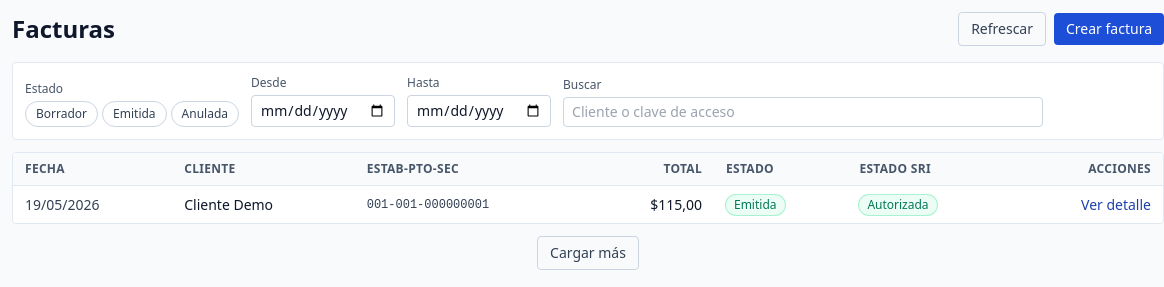
/invoices — cursor pagination › 'Cargar más' appends the second page
Expected: the row with test id "invoice-row-01HX8K0PYFA9B7Y1M2N3P4Q5AA" is shown, [13,186,1163,223]
Click the button with test id "list-load-more" at point(588, 253), box [537,236,639,270]
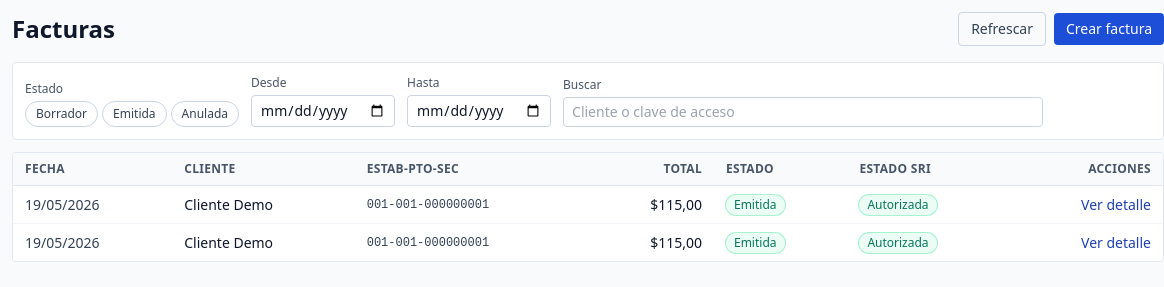
Expected: the row with test id "invoice-row-01HX8K0PYFA9B7Y1M2N3P4Q5AA" is shown, [13,186,1163,224]
Expected: the row with test id "invoice-row-01HX8K0PYFA9B7Y1M2N3P4Q5BB" is shown, [13,224,1163,261]
